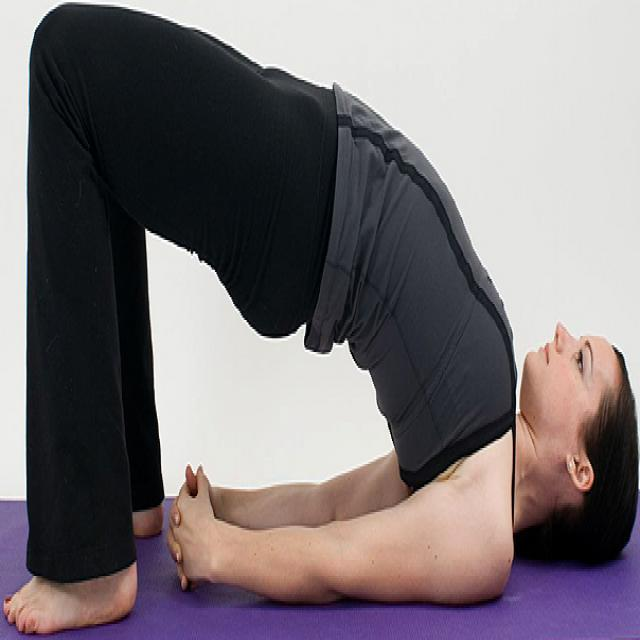yoga-pose bridge: (4, 0, 640, 632)
